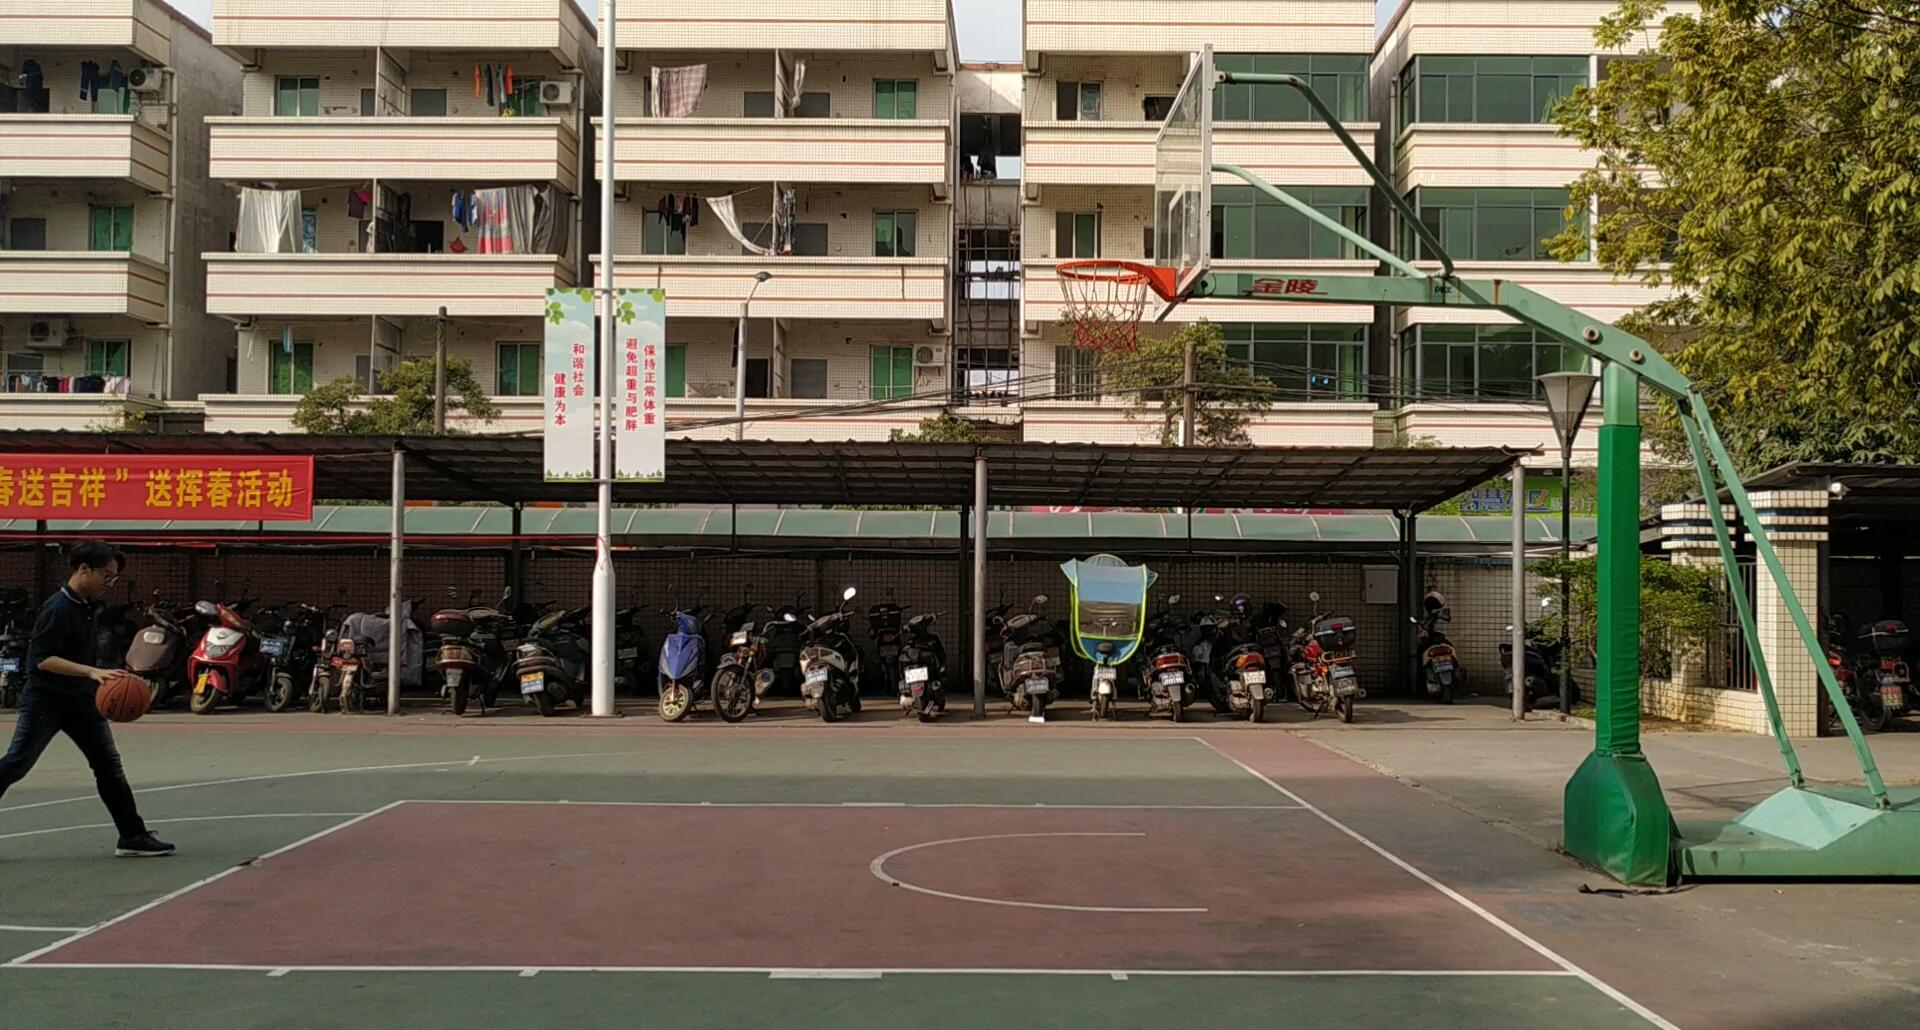basketball: (93, 665, 154, 728)
